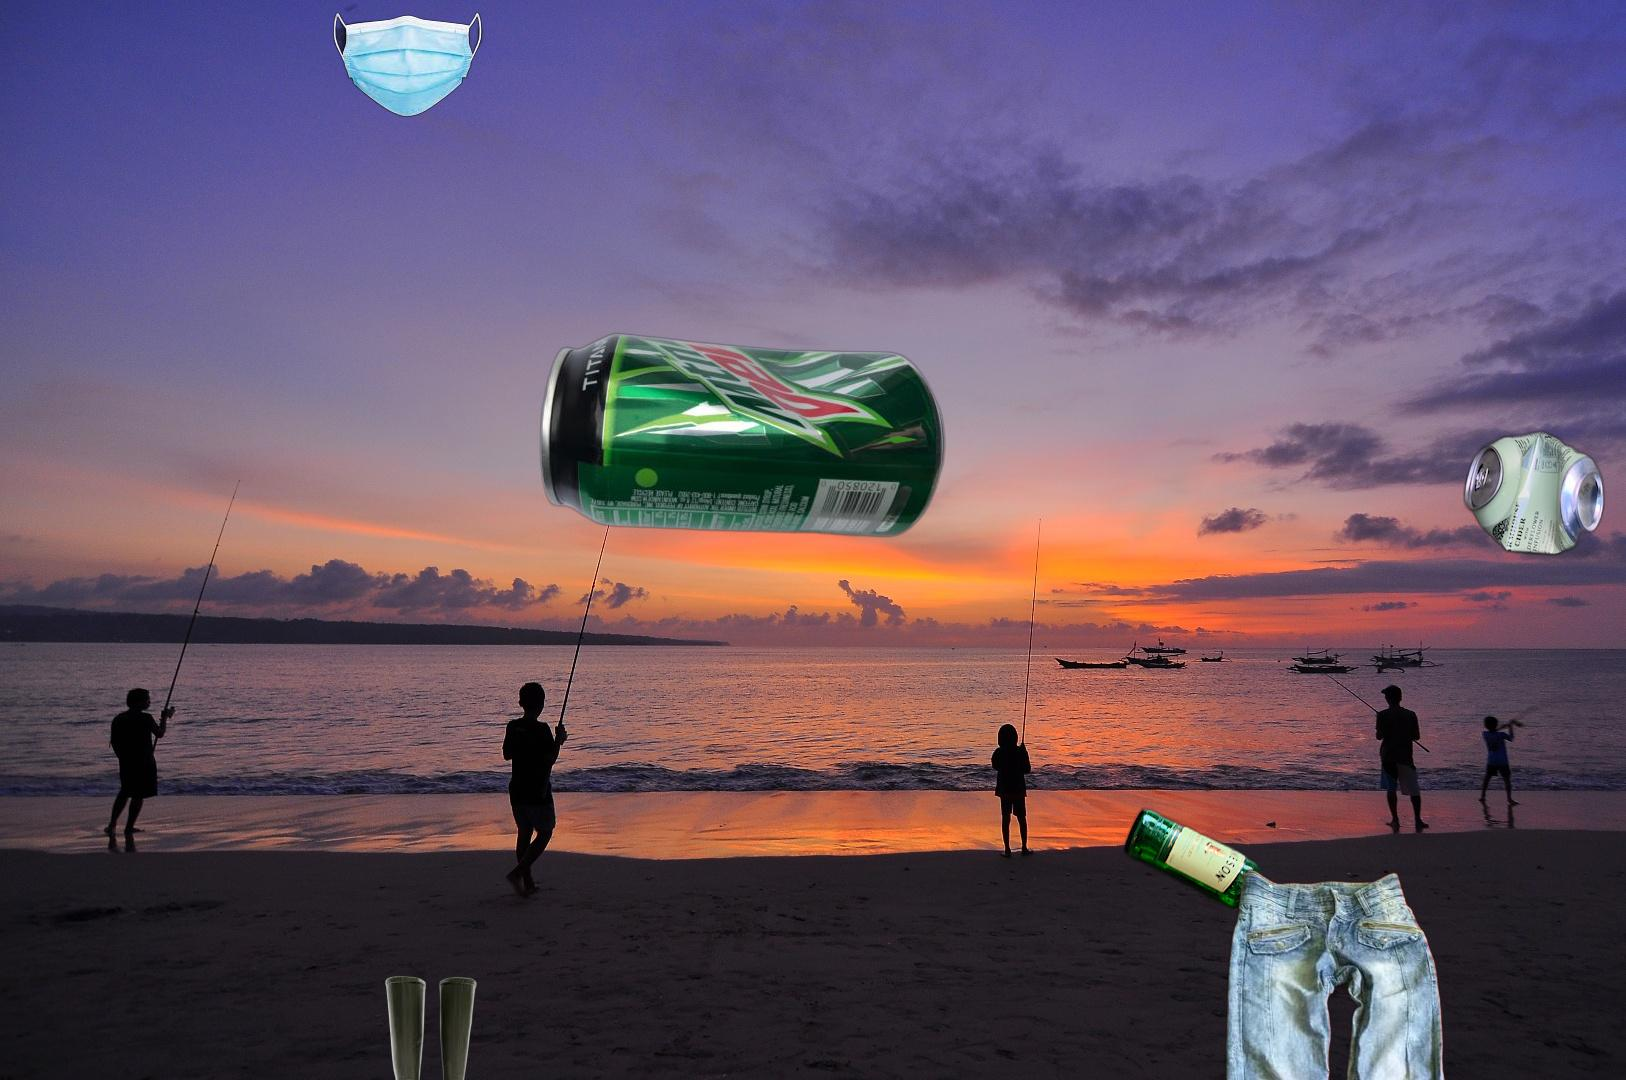clothes: (1223, 865, 1467, 1080)
glass: (1119, 803, 1333, 941)
metal-cans: (535, 330, 949, 539), (1458, 425, 1608, 560)
penholder: (430, 1033, 1427, 1080)
shoes: (370, 973, 493, 1080)
trash: (331, 10, 487, 121)
